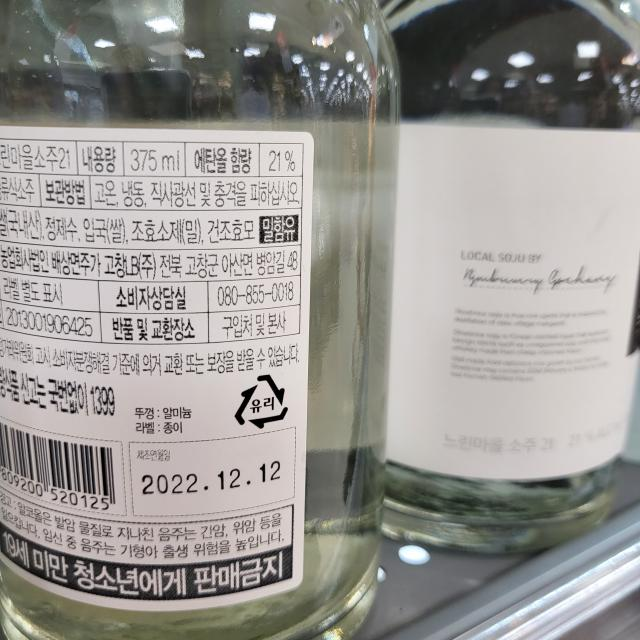Glass: (234, 372, 292, 430)
